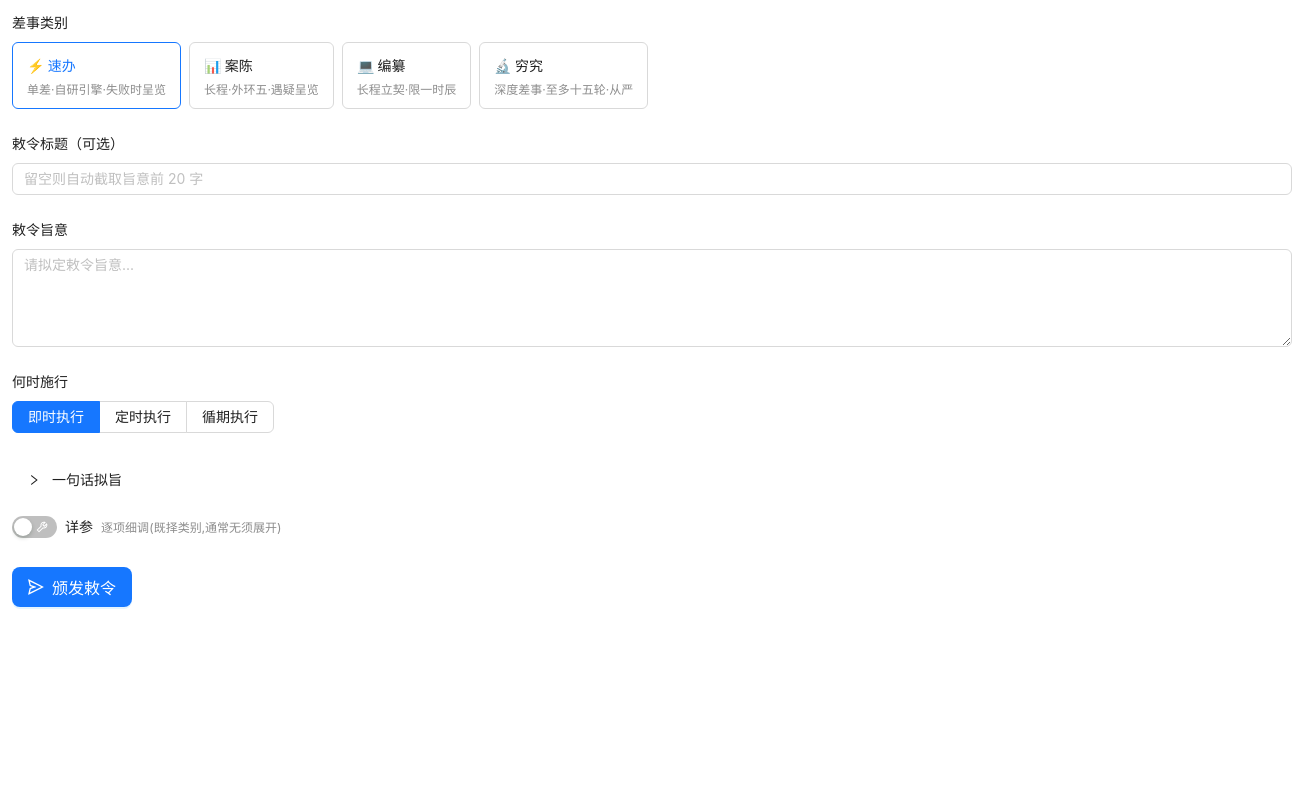
edict governance confirmation › fails closed when a compatible preview omits the effective contract
Type "拒绝不完整预检" into the text box labelled "敕令旨意" at (652, 298), box [12, 249, 1292, 347]
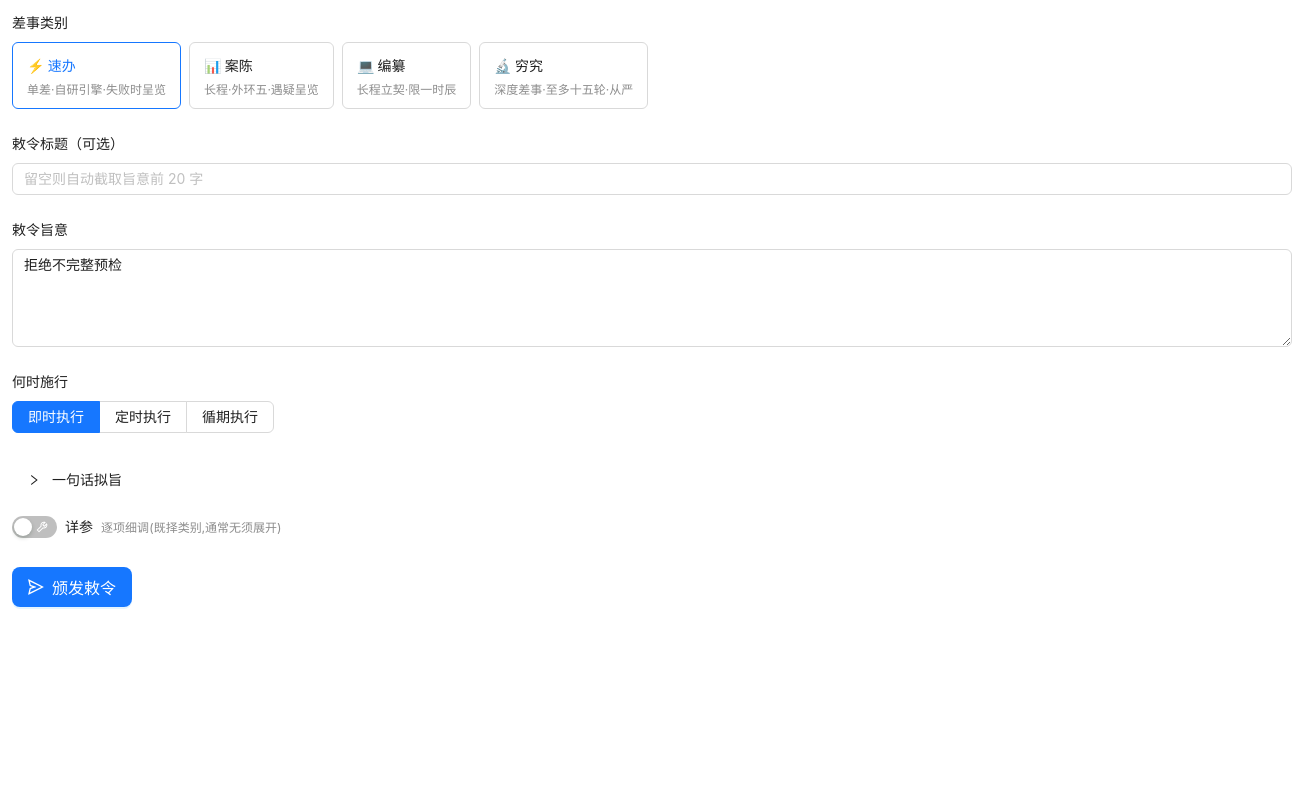
Click the button "颁发敕令" at (72, 587), box [12, 567, 132, 607]
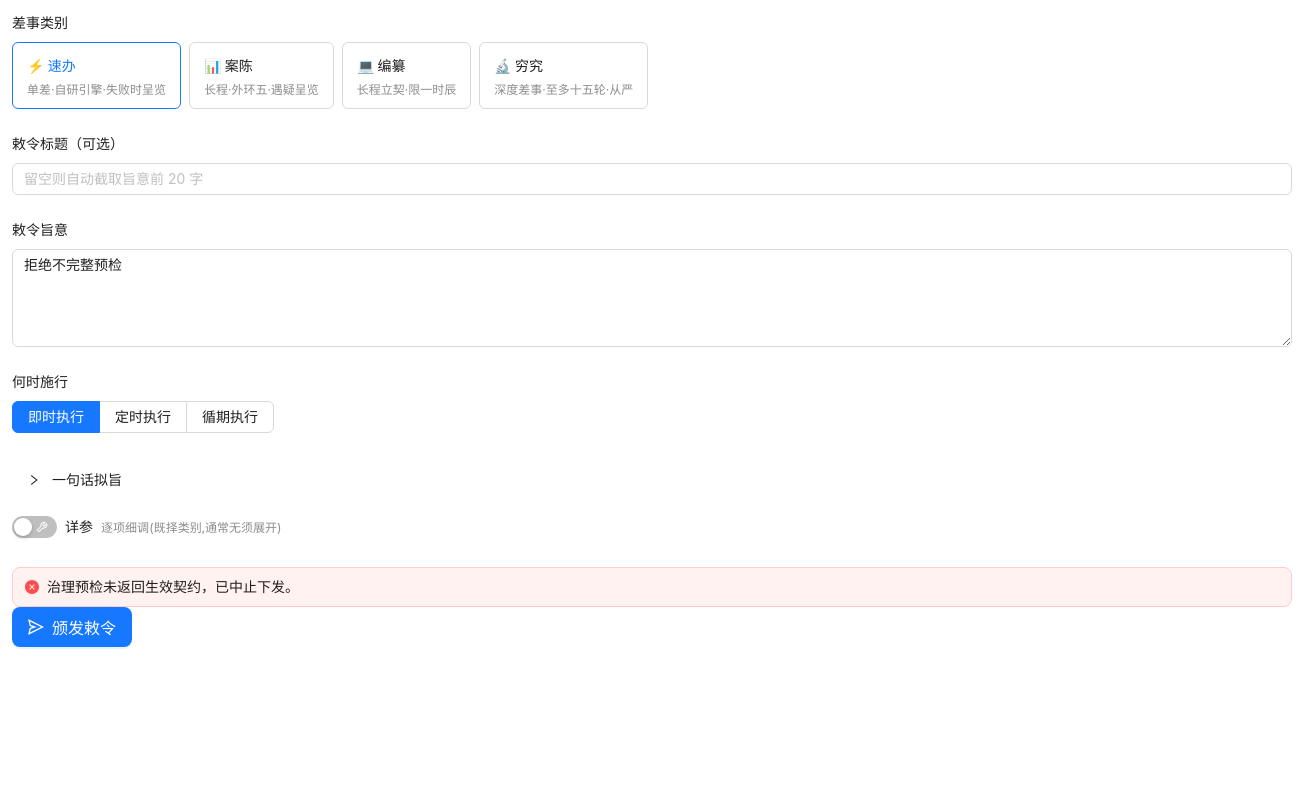
Check: the message shows "生效契约", box [47, 578, 299, 595]
